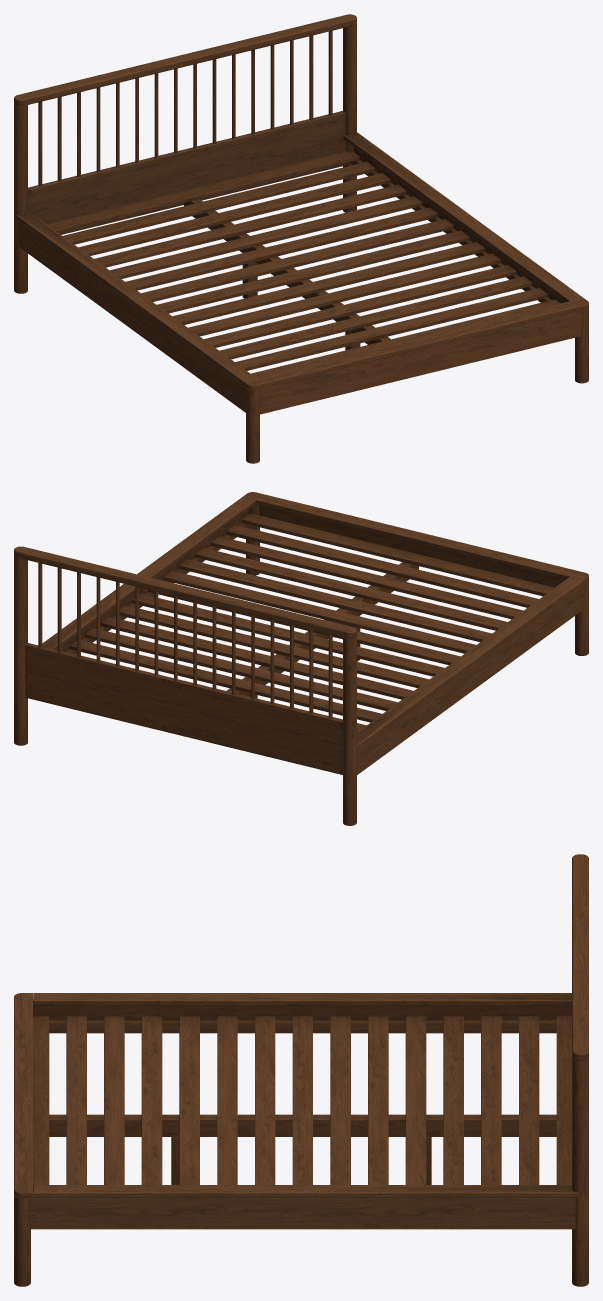
The model's file is cama-queen-madeira.glb.
3 views of the same model, one above another, from view 1: azimuth 30°, elevation 25°; view 2: azimuth 150°, elevation 25°; view 3: azimuth 270°, elevation 25° (orthographic). The views are drawn at different scales.
Visible parts, largest first — view 1: Estrutura; view 2: Estrutura; view 3: Estrutura.
Part boxes in pixels (x1,y1,x2,y2): Estrutura: [14, 14, 588, 463]; Estrutura: [14, 492, 588, 825]; Estrutura: [14, 854, 588, 1286].
Size of the model in its own units: 1.73 by 0.94 by 2.1.
Materials: 1 (1 with a texture image).
